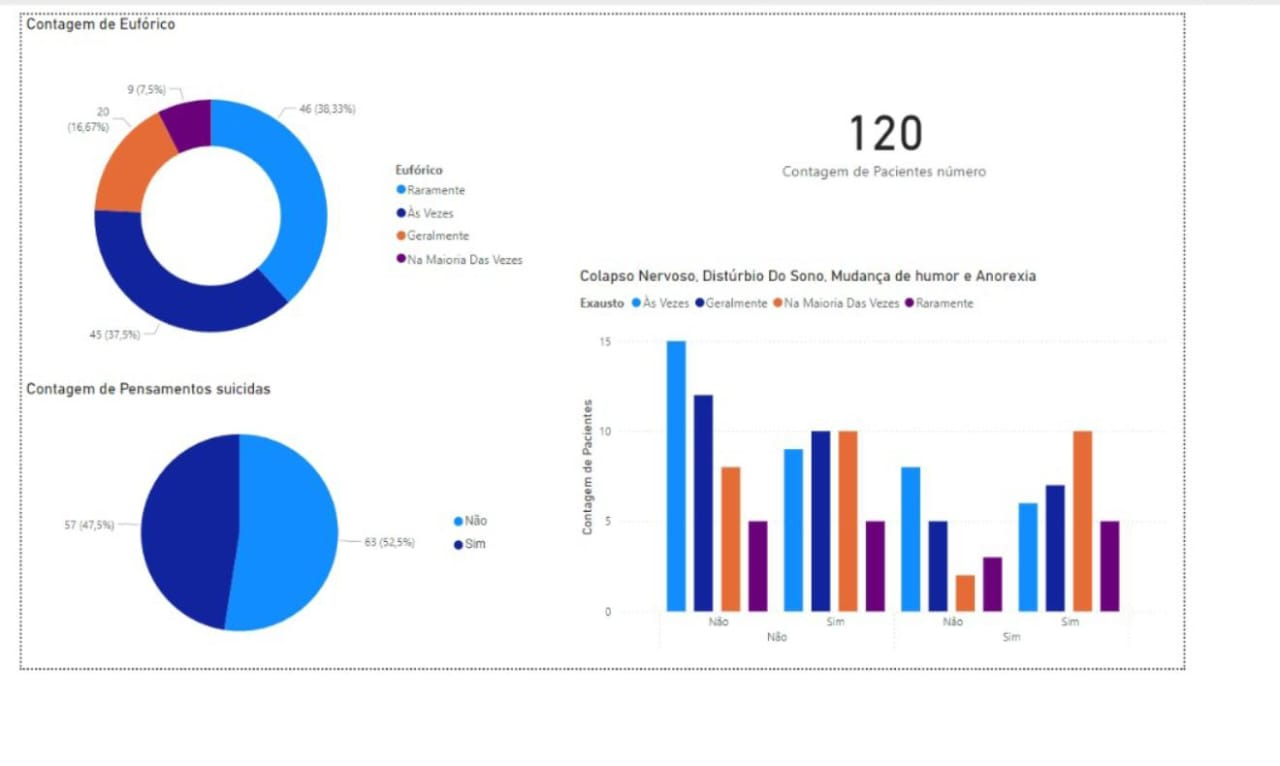

The dashboard page shown, as its layout file describes it:
{"tool":"powerbi","page":{"name":"Página 1","canvas":[1280,720],"ordinal":0},"visuals":[{"type":"donutChart","title":"Contagem de Eufórico","fields":{"Category":["Dataset-Mental-Disorders.Eufórico"],"Y":["CountNonNull(Dataset-Mental-Disorders.Pacientes número)"]},"box":[0,0,566.6,424.1],"z":0},{"type":"pieChart","title":"Contagem de Pensamentos suicidas","fields":{"Category":["Dataset-Mental-Disorders.Pensamentos suicidas"],"Y":["CountNonNull(Dataset-Mental-Disorders.Pacientes número)"]},"box":[0,402,526.8,318.1],"z":1000},{"type":"clusteredColumnChart","title":"Colapso Nervoso,  Distúrbio Do Sono, Mudança de humor e Anorexia","fields":{"Category":["Dataset-Mental-Disorders.Anorexia","Dataset-Mental-Disorders.Colapso Nervoso"],"Y":["CountNonNull(Dataset-Mental-Disorders.Pacientes número)"],"Series":["Dataset-Mental-Disorders.Exausto"]},"box":[610,277.8,658.9,431.1],"z":3000},{"type":"card","fields":{"Values":["Count(Dataset-Mental-Disorders.Pacientes número)"]},"box":[621.1,0,658.9,266.7],"z":3001},{"type":"qnaVisual","box":[576.6,0,150,424.1],"z":3002}]}

Visuals, with their boxes on the page's 1280x720 design canvas (x1, y1, x2, y2). These are canvas units, not pixel positions in the 1280x766 screenshot, which may show the page scaled, cropped or inside an application window:
"Contagem de Eufórico" donutChart: select_region(0, 0, 567, 424)
"Contagem de Pensamentos suicidas" pieChart: select_region(0, 402, 527, 720)
"Colapso Nervoso,  Distúrbio Do Sono, Mudança de humor e Anorexia" clusteredColumnChart: select_region(610, 278, 1269, 709)
card - Count(Dataset-Mental-Disorders.Pacientes número): select_region(621, 0, 1280, 267)
qnaVisual: select_region(577, 0, 727, 424)
